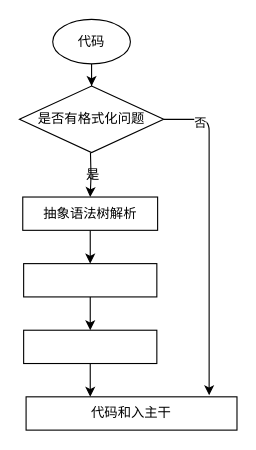
Image size: 256x450. Some labels were removed from this diagram. Each missing label, with the box of its shape:
git提交: (23, 329, 157, 364)
问题代码节点处理: (23, 263, 157, 297)
